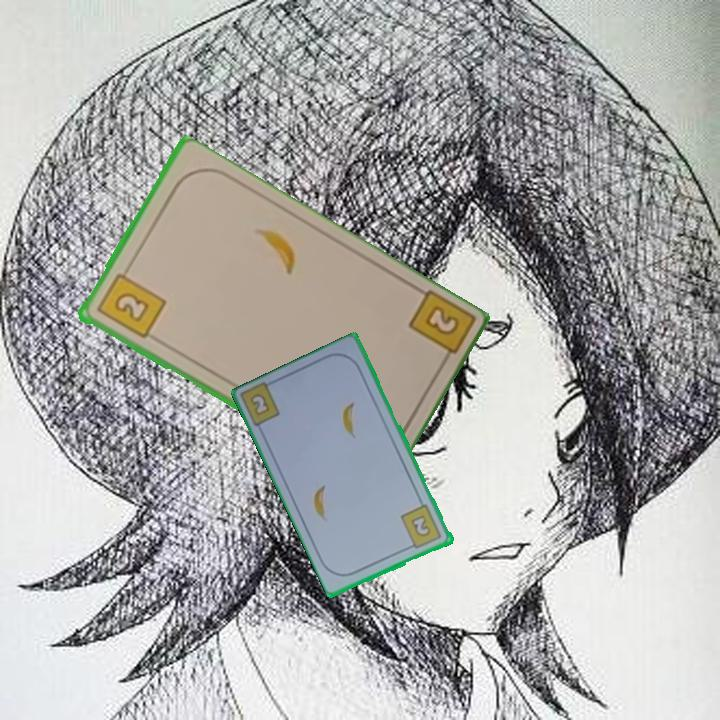2b: (92, 263, 168, 342), (404, 287, 475, 371), (397, 501, 445, 552), (249, 392, 271, 416)
